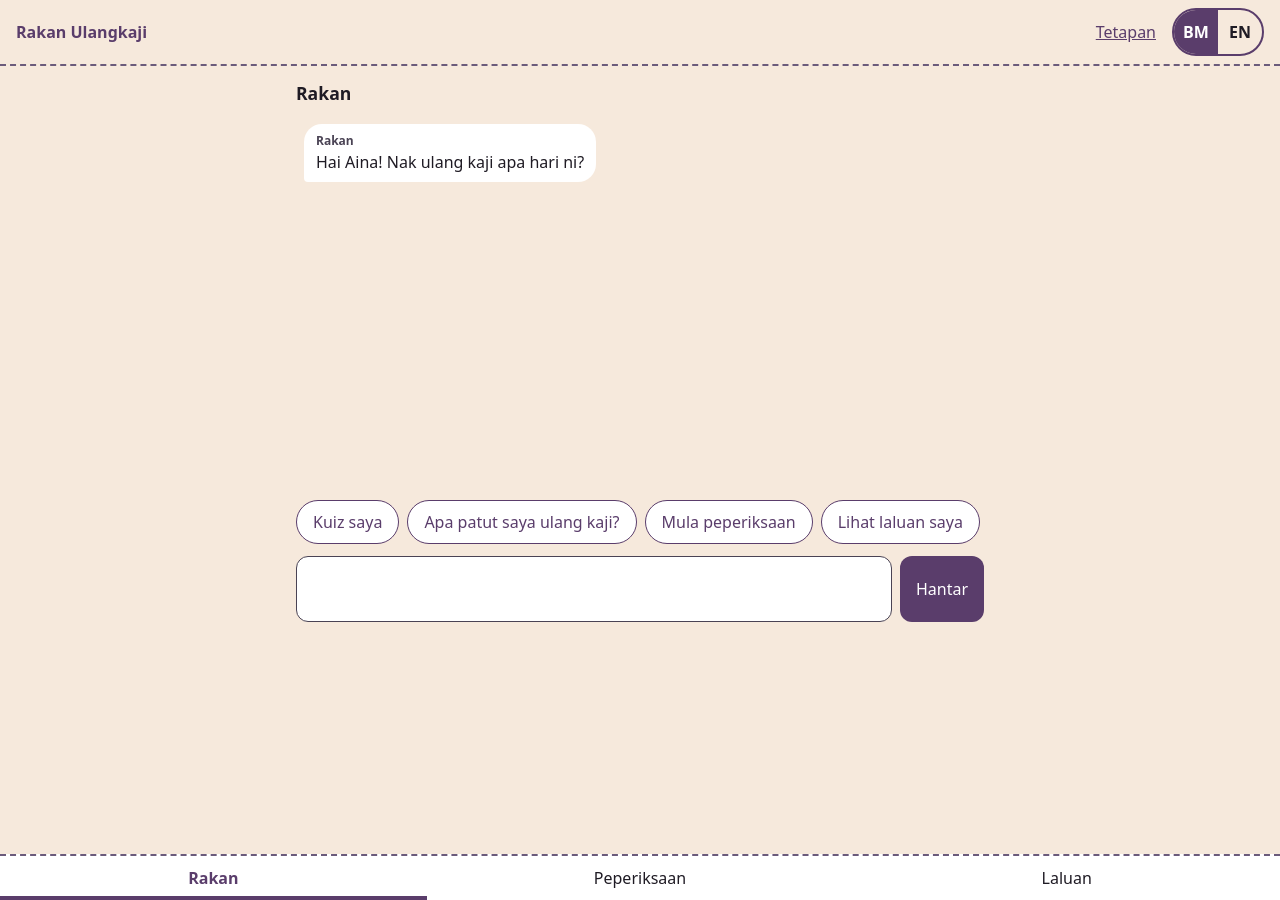
Scenario: Shell › switches language in place and sets the document language
Expected: the heading "Rakan" is shown, x1=296 y1=81 x2=351 y2=105
Step 1. Click the button "EN" → (1240, 32), box x1=1218 y1=10 x2=1262 y2=54
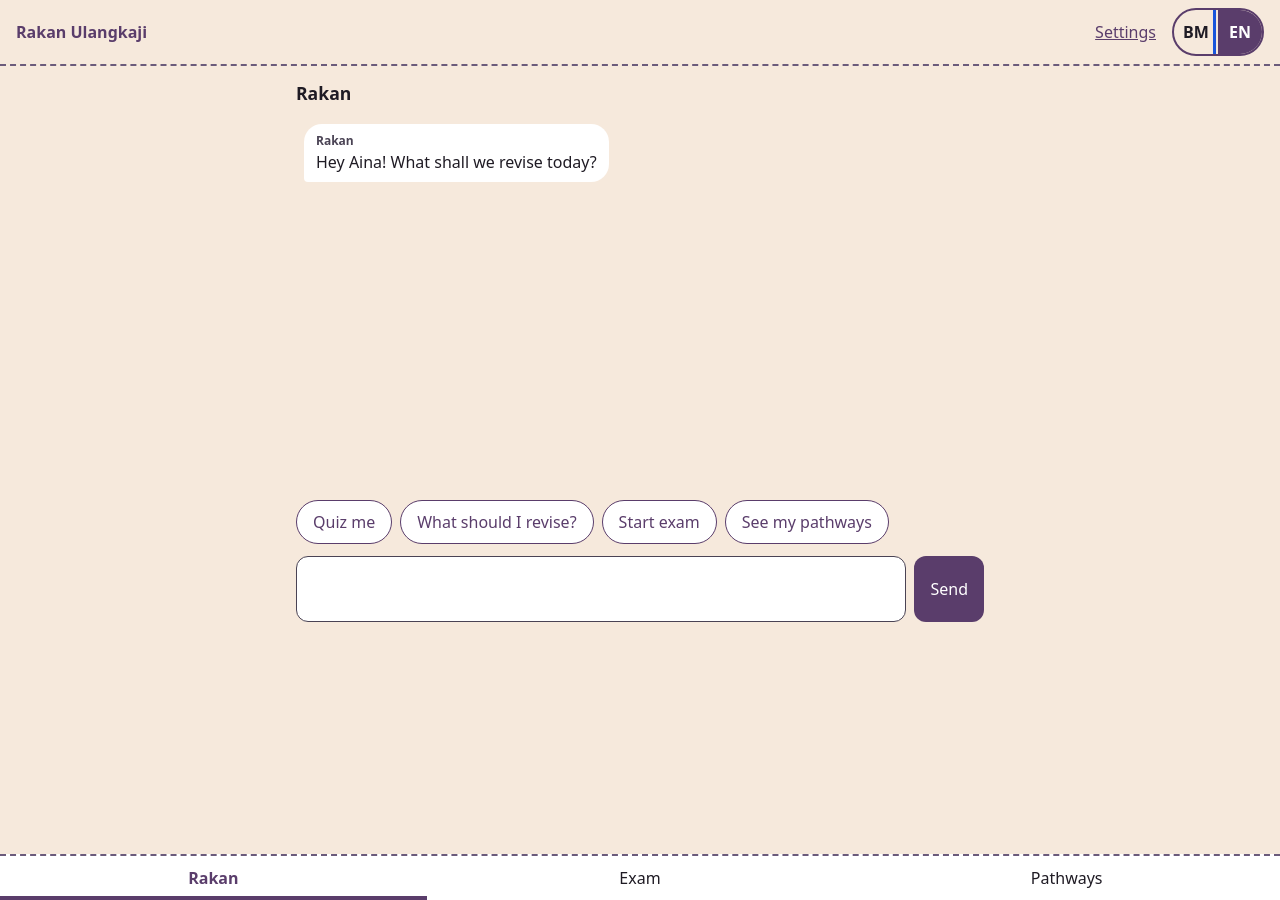
Expected: the link "Exam" is shown, x1=619 y1=867 x2=661 y2=889
Step 2. Click the button "BM" → (1196, 32), box x1=1174 y1=10 x2=1218 y2=54
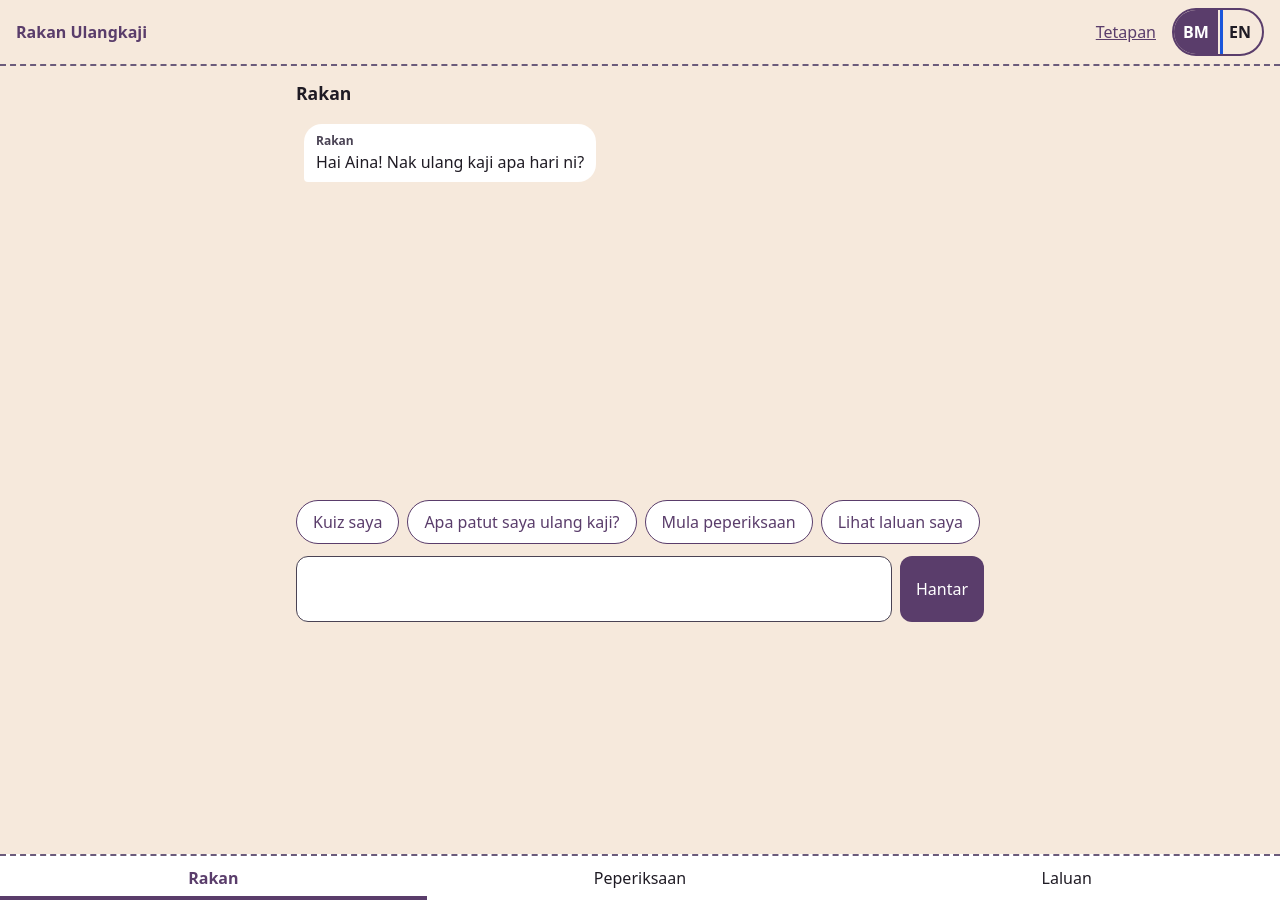
Expected: the link "Peperiksaan" is shown, x1=594 y1=867 x2=686 y2=889
